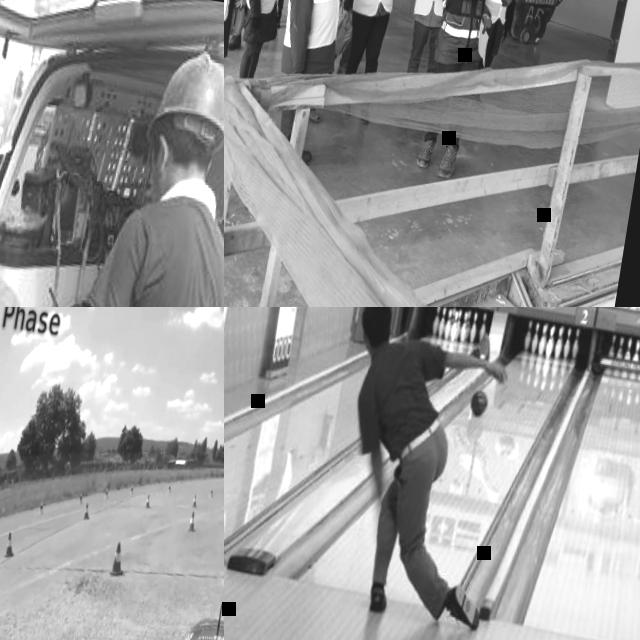Hardhat: (0, 32, 224, 307), (0, 15, 87, 307), (145, 47, 224, 154), (0, 28, 31, 163)
NO-Hardhat: (359, 307, 394, 331)
NO-Mask: (146, 166, 166, 201)
NO-Safety Vest: (43, 190, 224, 307), (358, 338, 448, 457)
Person: (314, 307, 529, 634), (412, 0, 531, 186), (262, 0, 364, 170), (331, 0, 413, 125), (462, 0, 526, 104), (224, 0, 265, 152), (230, 0, 302, 81), (403, 0, 462, 75), (327, 0, 382, 74), (224, 0, 276, 53), (268, 0, 304, 28)
Safety Cone: (108, 544, 128, 582), (0, 531, 18, 564), (186, 511, 198, 537), (82, 501, 94, 522), (36, 503, 46, 520), (144, 494, 153, 511), (190, 494, 198, 510), (77, 492, 85, 507), (103, 488, 111, 503), (128, 483, 136, 497), (208, 488, 215, 500), (167, 483, 173, 496)
Safety Vest: (279, 0, 352, 53), (429, 0, 491, 50), (345, 0, 404, 20), (475, 0, 521, 25), (413, 0, 456, 19)
vehicle: (0, 0, 224, 307), (0, 573, 224, 640)
